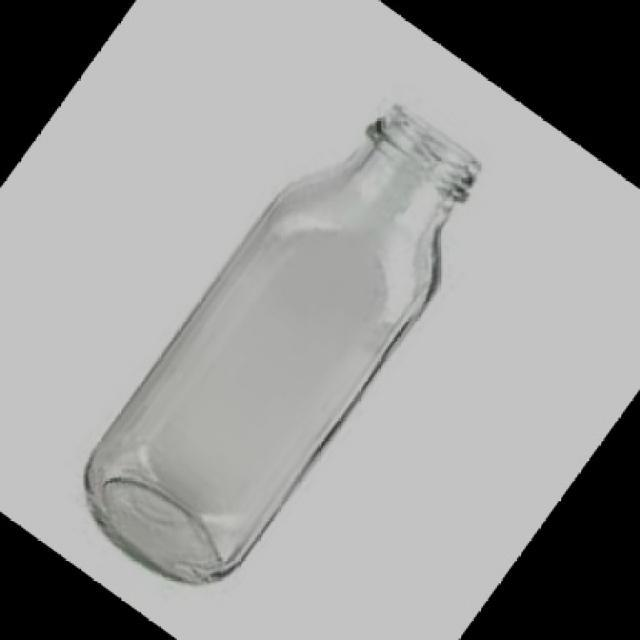Glass: (84, 102, 482, 585)
